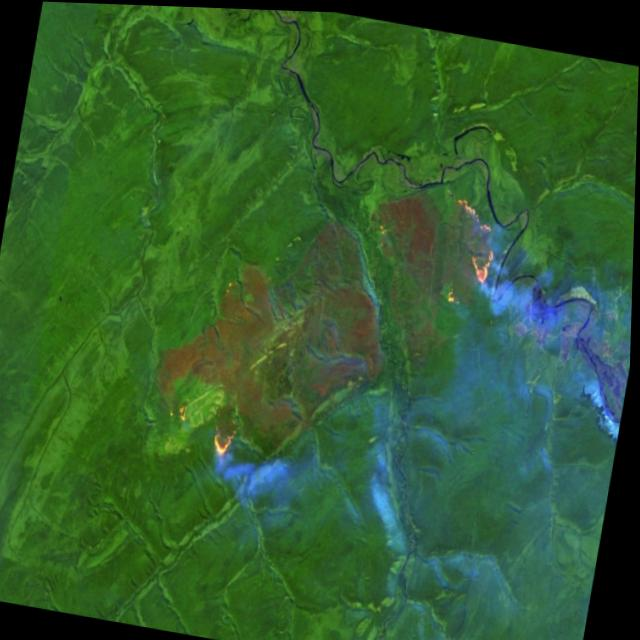fire: (431, 184, 508, 315), (200, 406, 255, 476)
